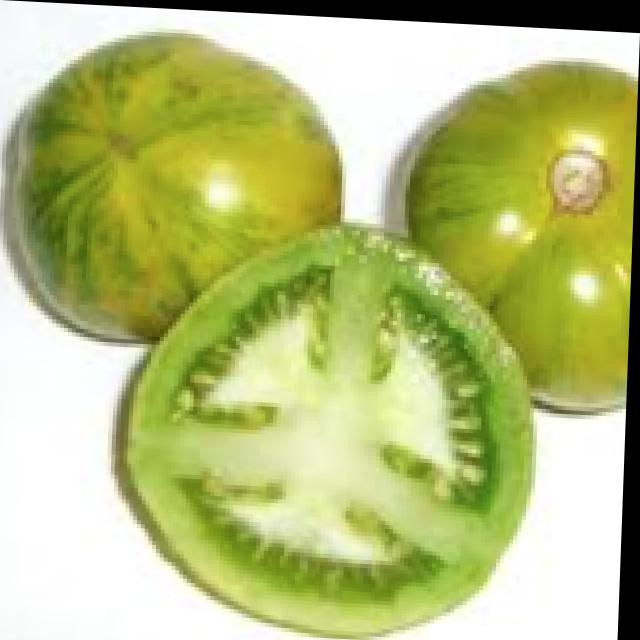yesil: (0, 20, 638, 419)
